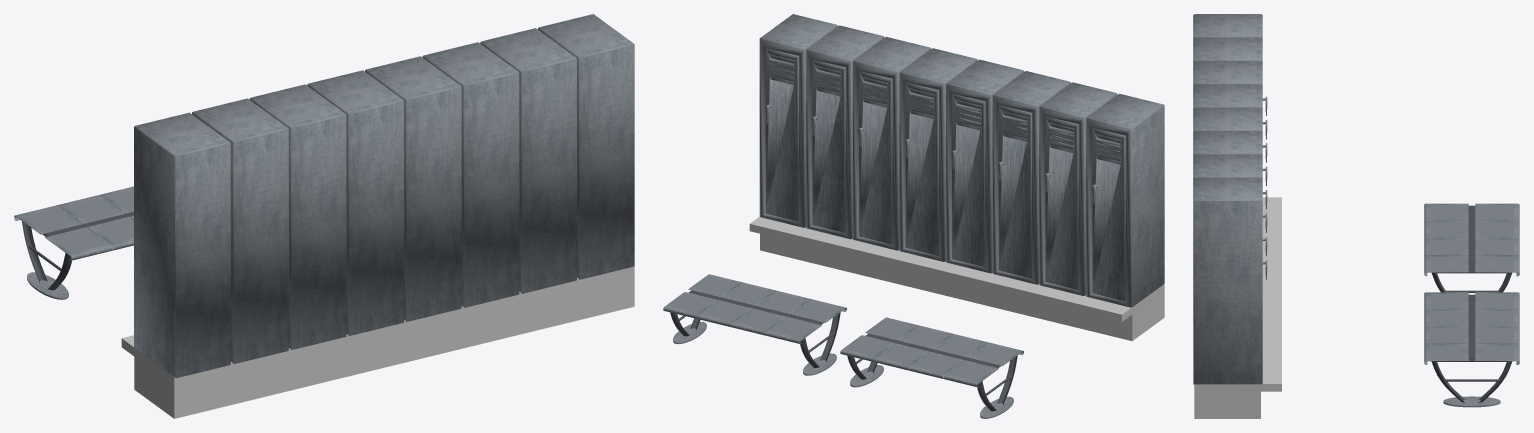
Rendered from Lockers.fbx.
3 views of the same model, side by side, from view 1: azimuth 30°, elevation 25°; view 2: azimuth 150°, elevation 25°; view 3: azimuth 270°, elevation 25° (orthographic). The views are drawn at different scales.
Parts seen in each view (by area): view 1: Cylinder.000; view 2: Cylinder.000; view 3: Cylinder.000.
Boxes of the visible parts, x1,y1,x2,y2 form: Cylinder.000: (14,14,634,418); Cylinder.000: (663,14,1164,418); Cylinder.000: (1193,14,1519,418).
Size of the model in its own units: 347 by 190 by 257.
